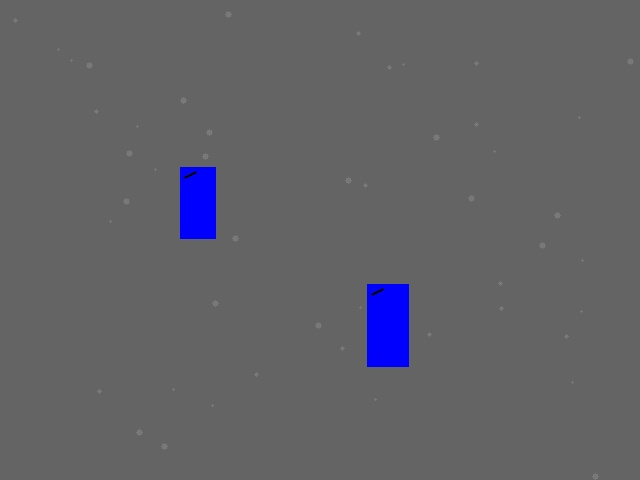motorcycle: (367, 284, 408, 366), (180, 167, 215, 238)
